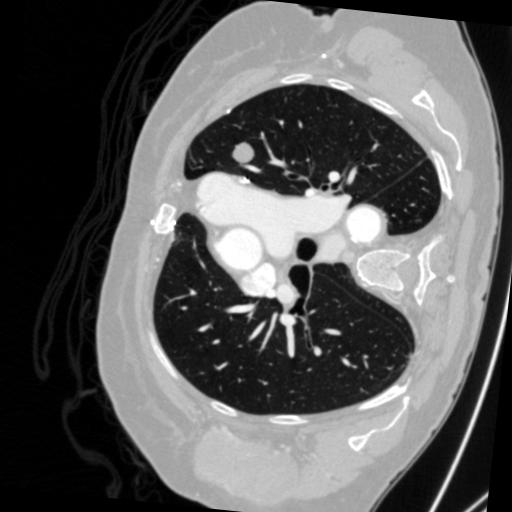nodule: (231, 141, 258, 168)
